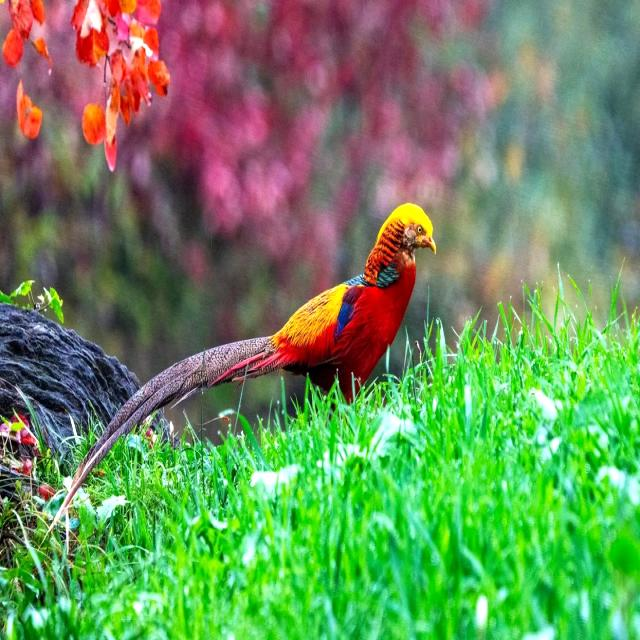Chrysolophus pictus feather: (52, 338, 280, 526)
